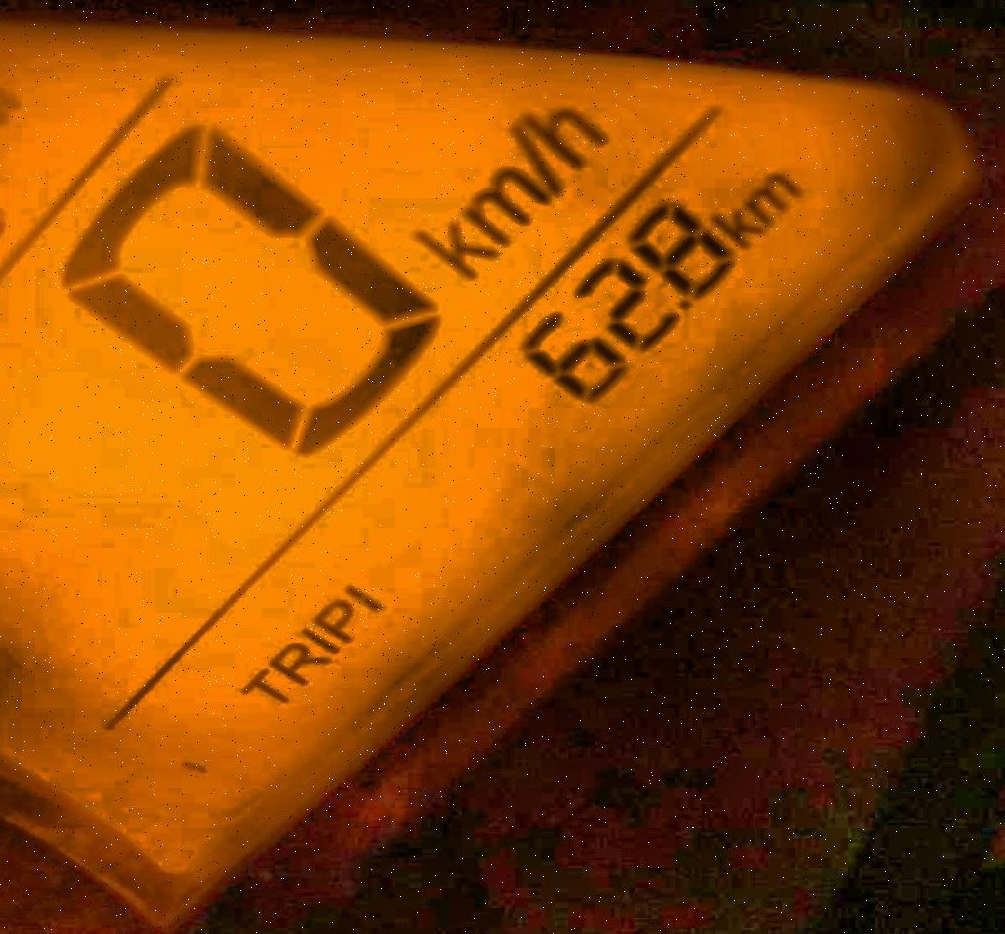-: (671, 295, 691, 312)
0: (48, 122, 438, 458)
1: (345, 583, 381, 613)
2: (571, 258, 671, 349)
6: (518, 312, 623, 402)
8: (629, 202, 728, 295)
X: (459, 168, 543, 245), (519, 105, 603, 165), (413, 219, 494, 279), (505, 121, 560, 195), (738, 169, 798, 225), (268, 642, 324, 683), (708, 208, 759, 248), (238, 668, 288, 705), (310, 599, 351, 643), (298, 626, 338, 655)
